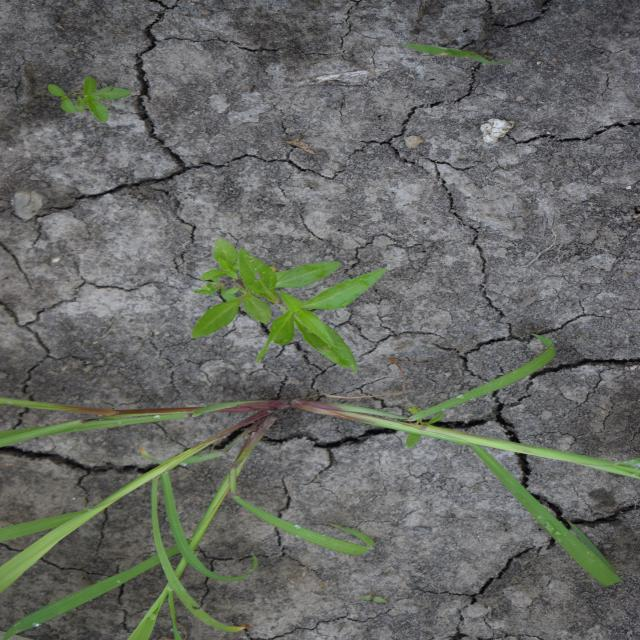Eclipta: (188, 237, 390, 375), (46, 76, 133, 124)
